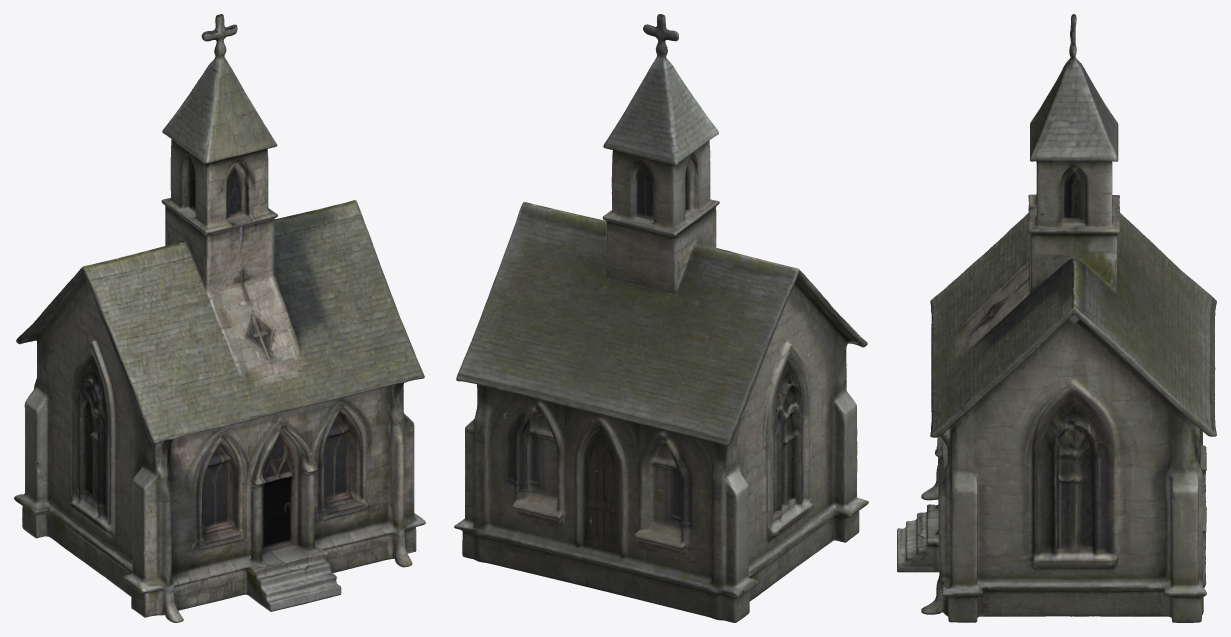
File: 3D_model_a_small_age_0423154854.fbx
3 views of the same model, side by side, from view 1: azimuth 30°, elevation 25°; view 2: azimuth 150°, elevation 25°; view 3: azimuth 270°, elevation 25° (orthographic). The views are drawn at different scales.
Parts seen in each view (by area): view 1: Mesh_0; view 2: Mesh_0; view 3: Mesh_0.
Boxes of the visible parts, <box> form: Mesh_0: <box>14,14,425,622</box>; Mesh_0: <box>454,14,868,622</box>; Mesh_0: <box>897,14,1216,622</box>.
Size of the model in its own units: 114 by 201 by 108.
1 material, 1 textured.
